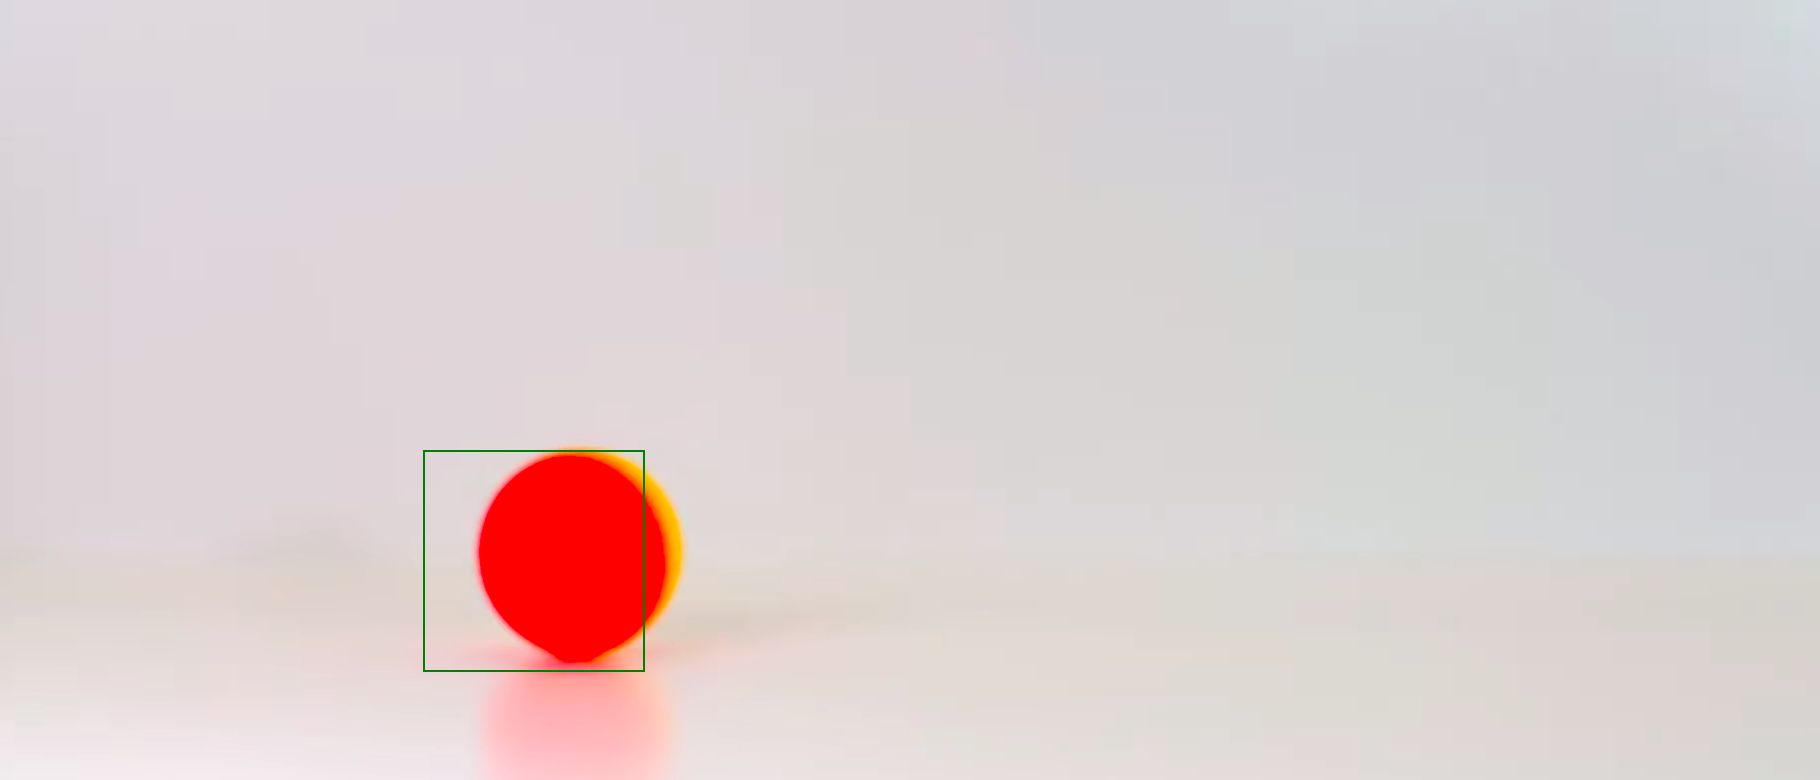Circle: (477, 445, 684, 663)
